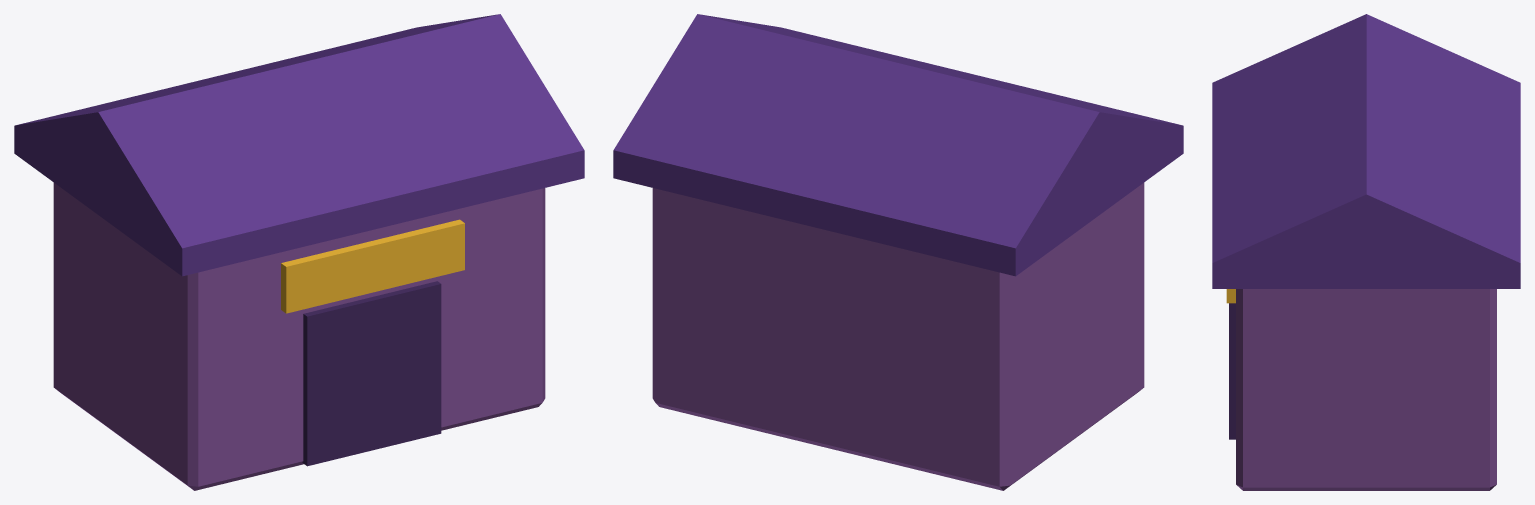
Rendered from warehouse.glb.
The picture shows the model from 3 angles, left to right: view 1: azimuth 30°, elevation 25°; view 2: azimuth 150°, elevation 25°; view 3: azimuth 270°, elevation 25°; orthographic projection. The views are drawn at different scales.
Parts seen in each view (by area): view 1: warehouse; view 2: warehouse; view 3: warehouse.
Boxes of the visible parts, x1=… form: warehouse: x1=14, y1=14, x2=584, y2=490; warehouse: x1=613, y1=14, x2=1183, y2=490; warehouse: x1=1212, y1=14, x2=1520, y2=490.
Size of the model in its own units: 0.9 by 0.72 by 0.65.
